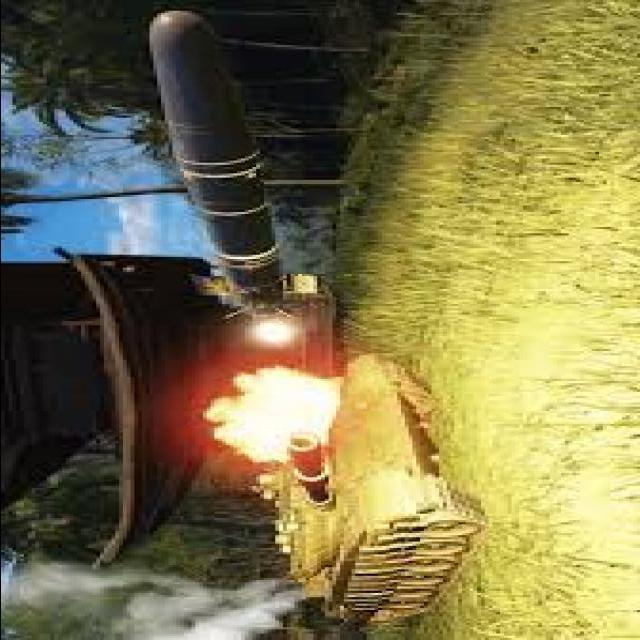missile: (146, 0, 282, 335)
